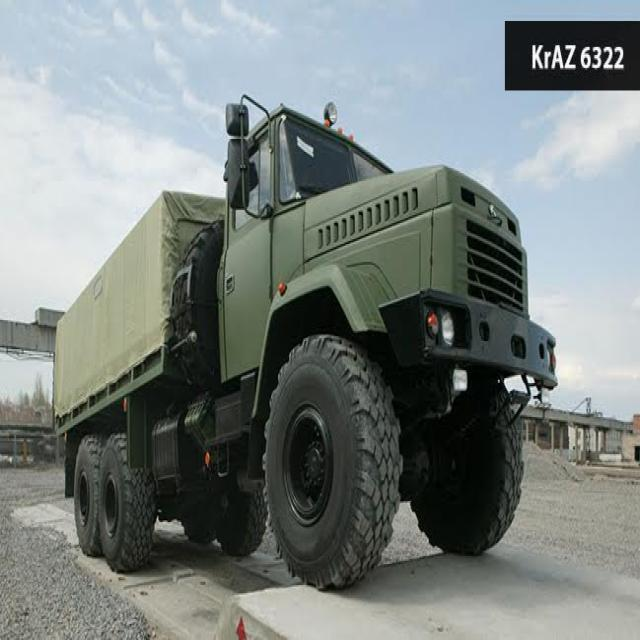truck: (55, 96, 556, 588)
